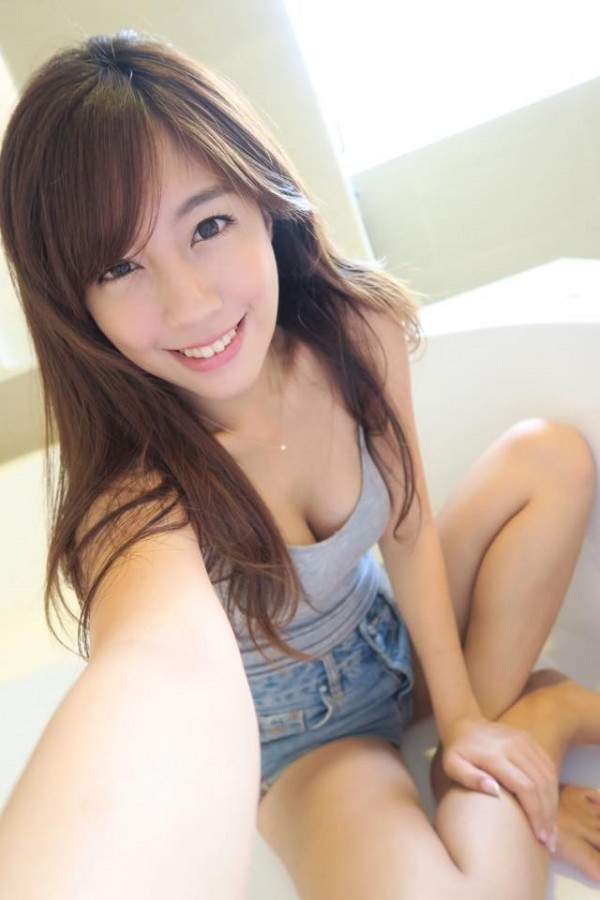people: (8, 45, 536, 900)
